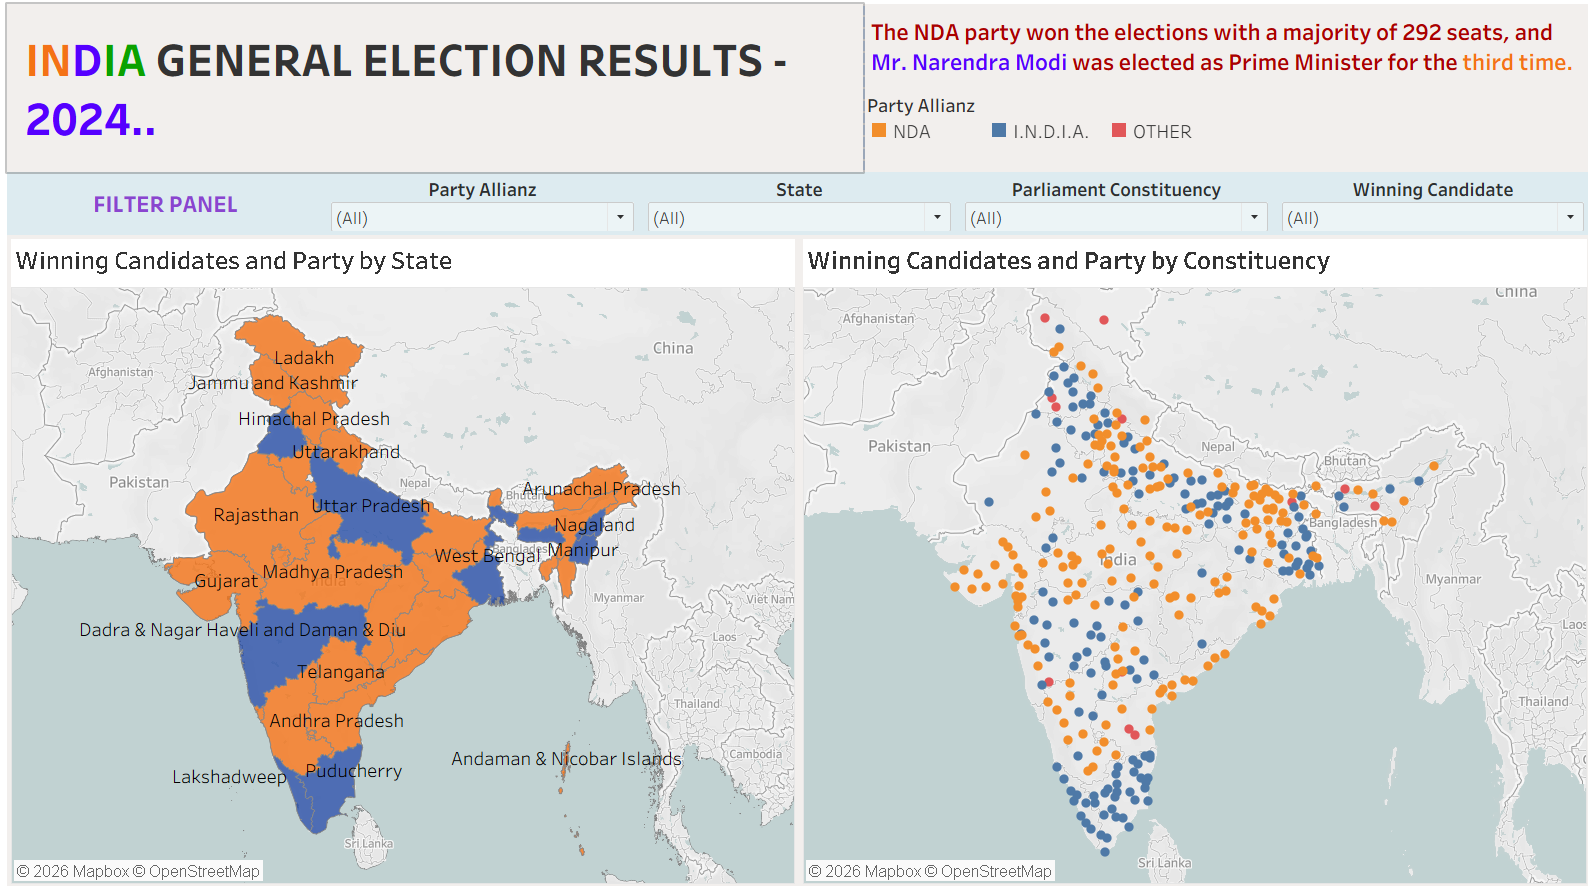

The dashboard page shown, as its layout file describes it:
{"tool":"tableau","page":{"name":"INDIA LOKSABHA ELECTION 2024 - STATE DEMOGRAPHICS","canvas":[1600,900],"ordinal":1},"visuals":[{"type":"title","box":[8,8,856,168]},{"type":"text","box":[864,8,728,84]},{"type":"legend","title":"Winning Candidates and Party by Constituency","param":"[federated.0zvumgq0ws5tz8148zvwt1rwmn34].[none:Calculation_1679561229283180544:n","box":[864,92,728,84]},{"type":"text","box":[8,176,317,63]},{"type":"filter","title":"Winning Candidates and Party by State ","param":"[federated.0zvumgq0ws5tz8148zvwt1rwmn34].[none:Calculation_1679561229283180544:n","box":[325,176,317,63]},{"type":"filter","title":"Winning Candidates and Party by State ","param":"[federated.0zvumgq0ws5tz8148zvwt1rwmn34].[none:State:nk]","box":[642,176,317,63]},{"type":"filter","title":"Winning Candidates and Party by State ","param":"[federated.0zvumgq0ws5tz8148zvwt1rwmn34].[none:Parliament Constituency:nk]","box":[959,176,317,63]},{"type":"filter","title":"Winning Candidates and Party by State ","param":"[federated.0zvumgq0ws5tz8148zvwt1rwmn34].[none:Winning Candidate:nk]","box":[1276,176,316,63]},{"type":"worksheet","title":"Winning Candidates and Party by State ","mark":"Multipolygon","box":[8,239,792,653]},{"type":"worksheet","title":"Winning Candidates and Party by Constituency","mark":"Shape","box":[800,239,792,653]}]}

Visuals, with their boxes in screenshot pixels (x1, y1, x2, y2), scaled from the page's 1600x900 canvas onto the 1588x886 screenshot:
title: [8, 8, 858, 173]
text: [858, 8, 1580, 91]
"Winning Candidates and Party by Constituency" legend: [858, 91, 1580, 173]
text: [8, 173, 323, 235]
"Winning Candidates and Party by State " filter: [323, 173, 637, 235]
"Winning Candidates and Party by State " filter: [637, 173, 952, 235]
"Winning Candidates and Party by State " filter: [952, 173, 1266, 235]
"Winning Candidates and Party by State " filter: [1266, 173, 1580, 235]
"Winning Candidates and Party by State " worksheet (Multipolygon marks): [8, 235, 794, 878]
"Winning Candidates and Party by Constituency" worksheet (Shape marks): [794, 235, 1580, 878]
